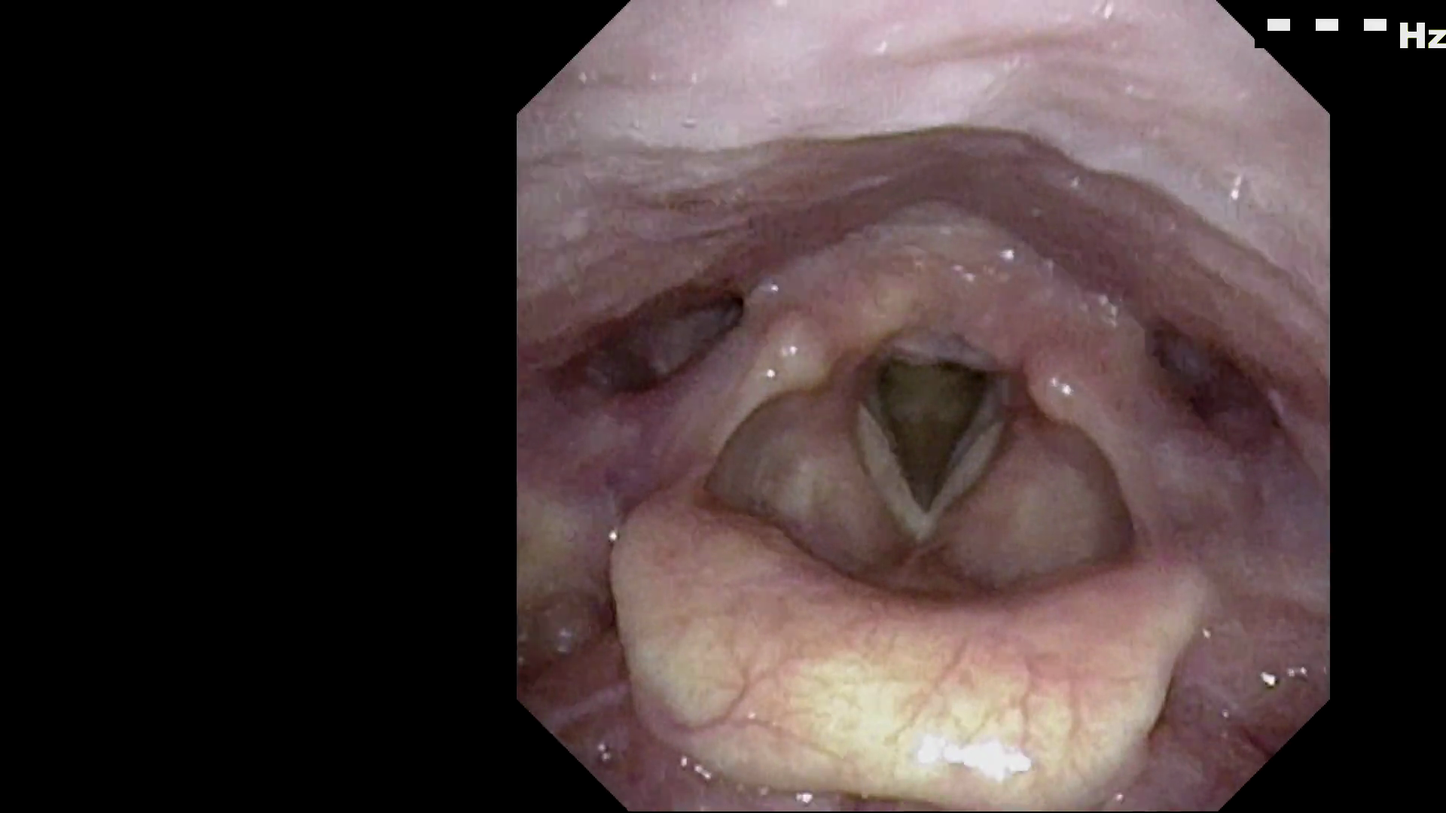epiglottis: (605, 503, 1209, 770)
trachea: (843, 326, 1022, 551)
